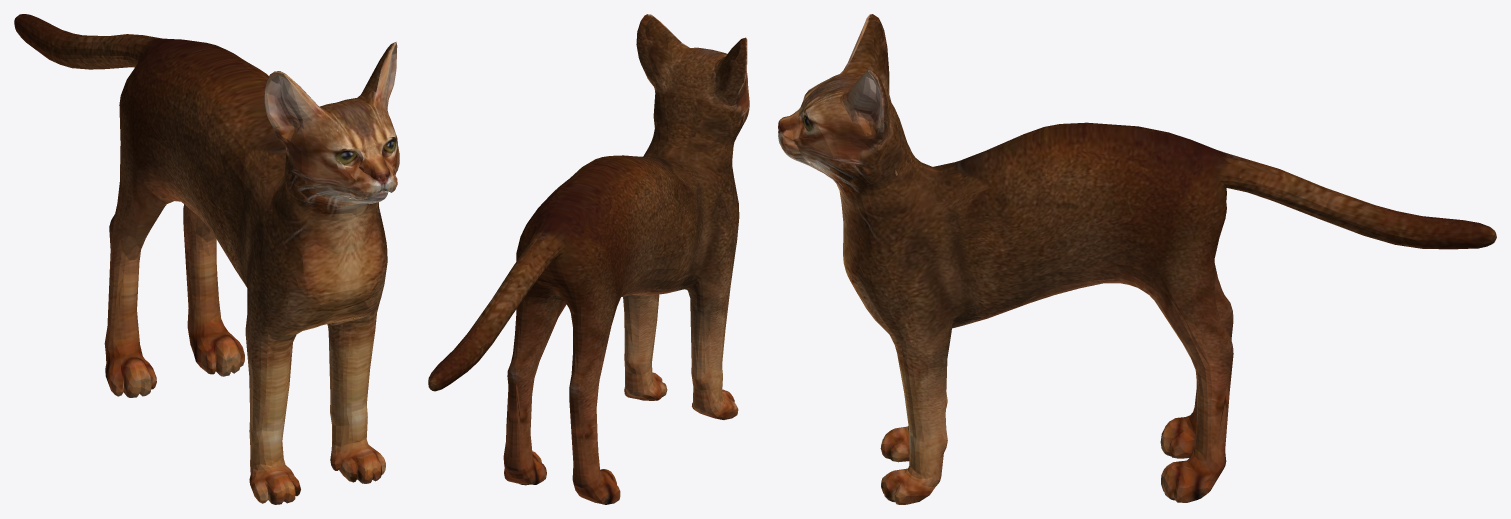
The model's file is AbyssinianCatEdited.glb.
3 renders of one model, left to right at view 1: azimuth 30°, elevation 25°; view 2: azimuth 150°, elevation 25°; view 3: azimuth 270°, elevation 25°, orthographic. The views are drawn at different scales.
Parts seen in each view (by area): view 1: Cat_Base_1.002; view 2: Cat_Base_1.002; view 3: Cat_Base_1.002.
Boxes of the visible parts, bbox=[...] form: Cat_Base_1.002: bbox=[14, 14, 399, 504]; Cat_Base_1.002: bbox=[428, 14, 749, 504]; Cat_Base_1.002: bbox=[778, 14, 1496, 504].
Size of the model in its own units: 1.41 by 4.53 by 6.79.
1 material, 1 textured.
